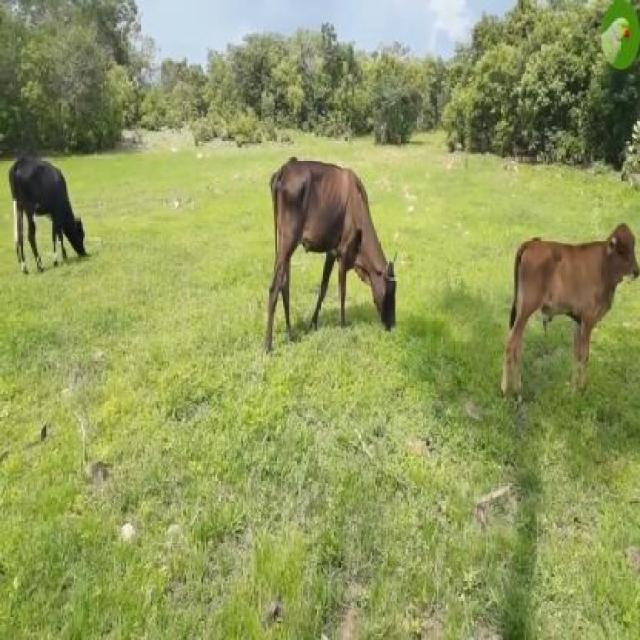Cow: (502, 223, 638, 408), (268, 154, 397, 346), (8, 151, 88, 274)
